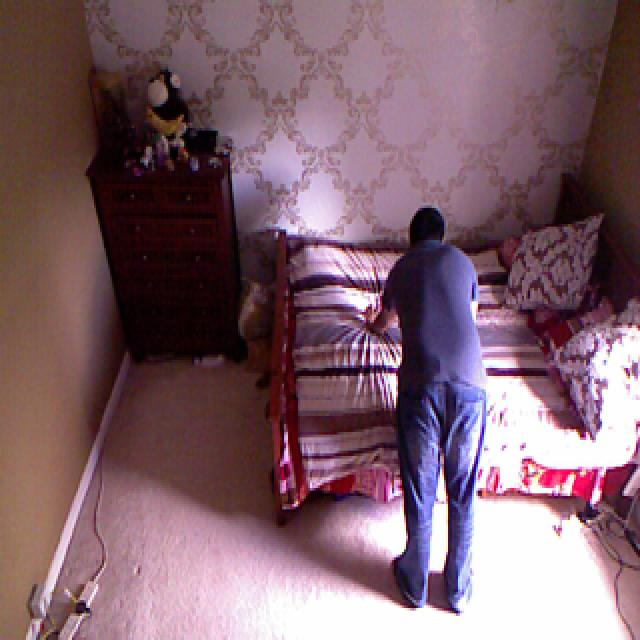crawling: (362, 208, 488, 620)
